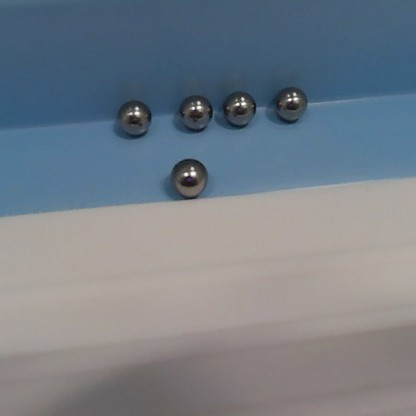ironball: (113, 93, 157, 143), (168, 156, 211, 200), (220, 88, 259, 131), (174, 91, 212, 134), (274, 83, 311, 126)
